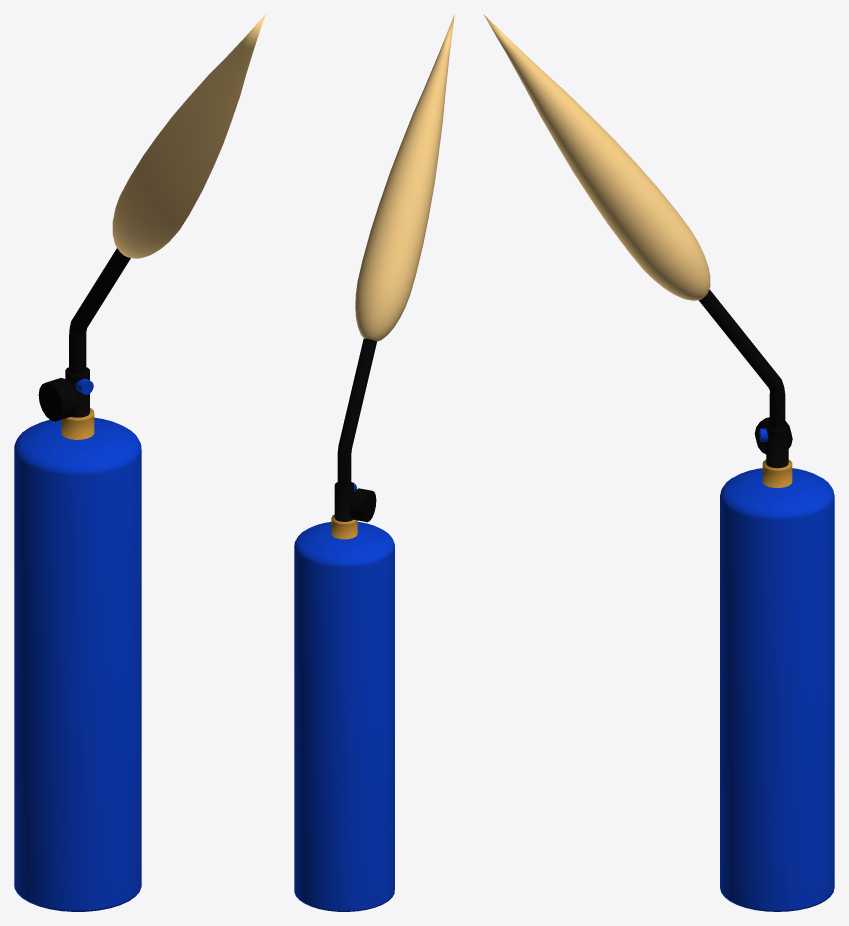
The model's file is torch2.fbx.
3 renders of one model, left to right at view 1: azimuth 30°, elevation 25°; view 2: azimuth 150°, elevation 25°; view 3: azimuth 270°, elevation 25°, orthographic. The views are drawn at different scales.
Parts seen in each view (by area): view 1: torch, flame; view 2: torch, flame; view 3: torch, flame.
Part boxes in pixels (bbox=[...]): torch: bbox=[14, 248, 141, 911]; flame: bbox=[112, 14, 265, 258]; torch: bbox=[294, 338, 394, 911]; flame: bbox=[355, 14, 454, 341]; torch: bbox=[698, 289, 834, 911]; flame: bbox=[483, 14, 710, 300].
Size of the model in its own units: 7.33 by 62.35 by 22.44.
